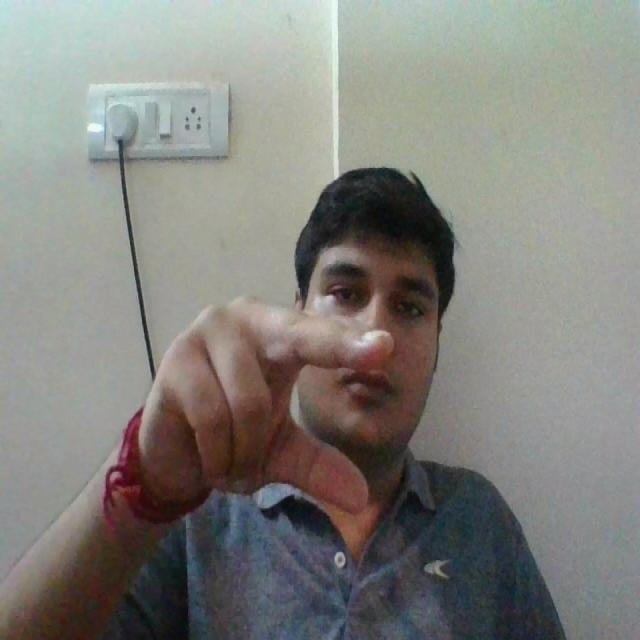no: (113, 280, 394, 525)
